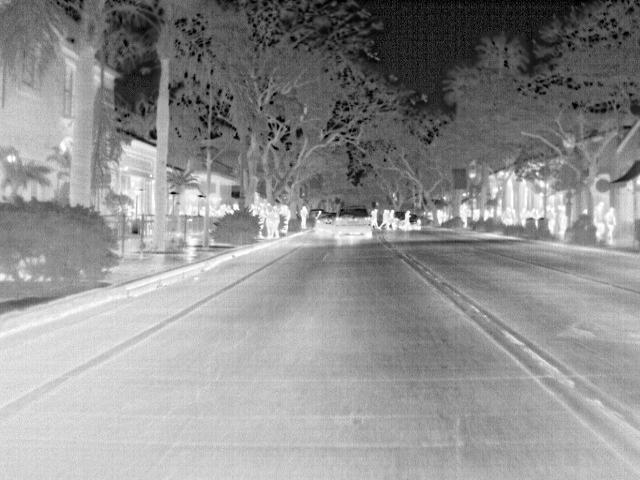car: (332, 204, 372, 238), (315, 211, 336, 232)
person: (592, 197, 607, 241), (605, 206, 618, 243), (264, 204, 276, 239), (297, 204, 311, 232), (401, 209, 415, 234), (370, 207, 384, 230), (385, 208, 398, 231)
